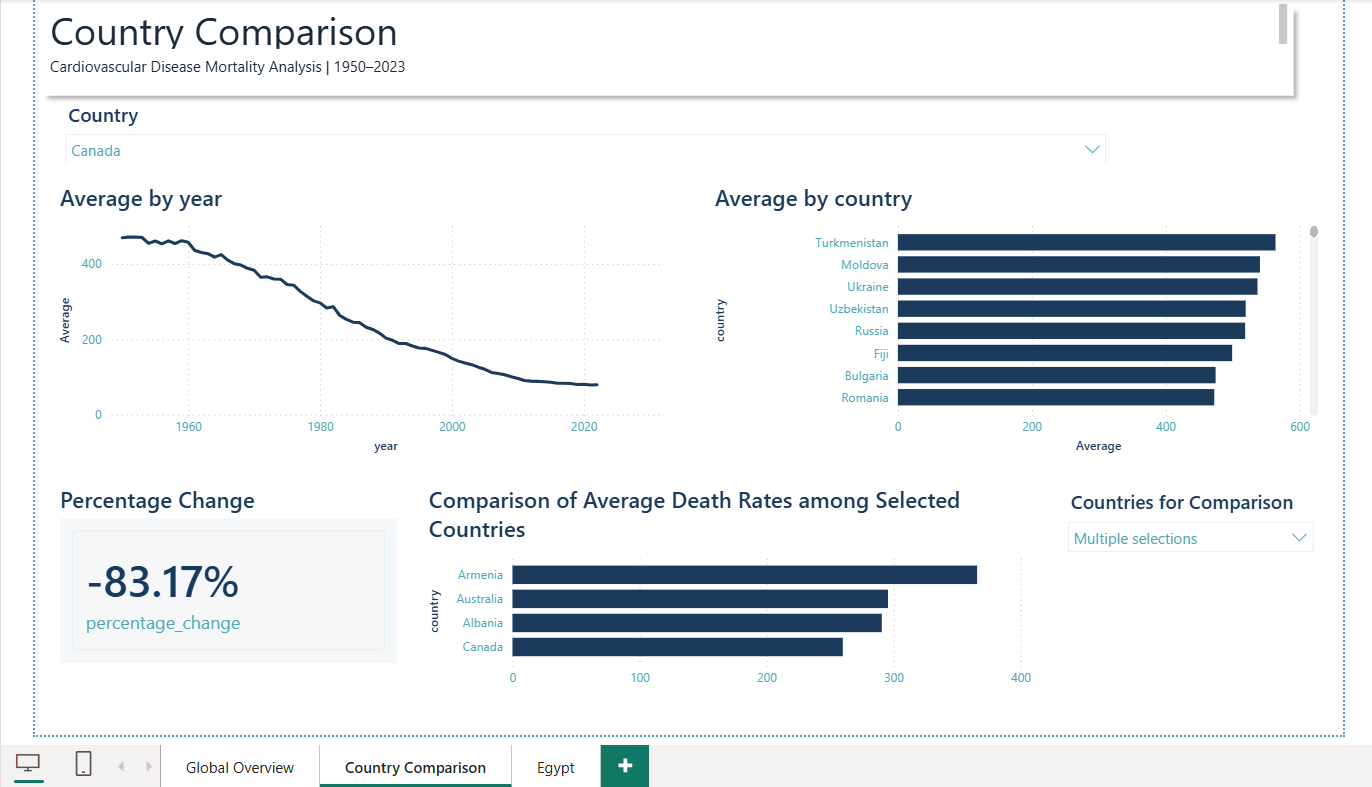

The dashboard page shown, as its layout file describes it:
{"tool":"powerbi","page":{"name":"Country Comparison","canvas":[1280,720],"ordinal":1},"visuals":[{"type":"slicer","fields":{"Values":["cvd_mortality_clean.country"]},"box":[20,95,1038,65],"z":0},{"type":"lineChart","fields":{"Category":["cvd_mortality_clean.year"],"Y":["cvd_mortality_clean.Average"]},"box":[20,180,600,270],"z":1000},{"type":"barChart","fields":{"Category":["cvd_mortality_clean.country"],"Y":["cvd_mortality_clean.Average"]},"box":[660,180,600,270],"z":2000},{"type":"cardVisual","title":"Percentage Change","fields":{"Data":["cvd_mortality_clean.percentage_change"]},"box":[20,475,340,180],"z":3000},{"type":"clusteredBarChart","title":"Comparison of Average Death Rates among Selected Countries","fields":{"Category":["cvd_mortality_clean.country"],"Y":["cvd_mortality_clean.Average"]},"box":[380.3,474.5,599.2,207.9],"z":4000},{"type":"slicer","fields":{"Values":["cvd_mortality_clean.country"]},"box":[1000,475,260,80],"z":5000},{"type":"shape","box":[0,0,1240,103.3],"z":6000},{"type":"textbox","box":[10,0,1220,54.1],"z":7000},{"type":"textbox","box":[10,50,391.1,31.1],"z":8000}]}

Visuals, with their boxes on the page's 1280x720 design canvas (x1, y1, x2, y2). These are canvas units, not pixel positions in the 1372x787 screenshot, which may show the page scaled, cropped or inside an application window:
slicer - cvd_mortality_clean.country: rect(20, 95, 1058, 160)
lineChart - cvd_mortality_clean.year x cvd_mortality_clean.Average: rect(20, 180, 620, 450)
barChart - cvd_mortality_clean.country x cvd_mortality_clean.Average: rect(660, 180, 1260, 450)
"Percentage Change" cardVisual: rect(20, 475, 360, 655)
"Comparison of Average Death Rates among Selected Countries" clusteredBarChart: rect(380, 474, 980, 682)
slicer - cvd_mortality_clean.country: rect(1000, 475, 1260, 555)
shape: rect(0, 0, 1240, 103)
textbox: rect(10, 0, 1230, 54)
textbox: rect(10, 50, 401, 81)
